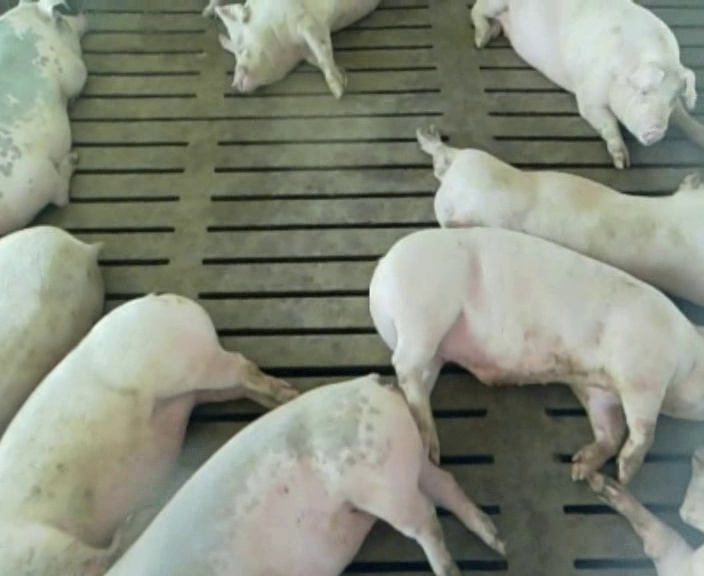pig: (371, 228, 703, 482), (0, 294, 297, 573), (108, 375, 504, 574), (417, 126, 703, 305), (471, 2, 703, 167), (0, 227, 103, 434), (0, 3, 86, 234), (204, 1, 377, 97)
